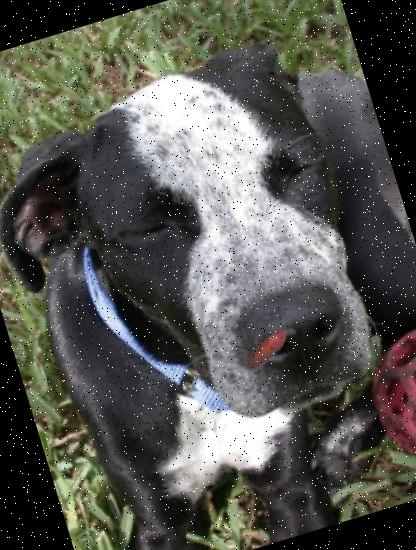Banana: (231, 308, 308, 385)
